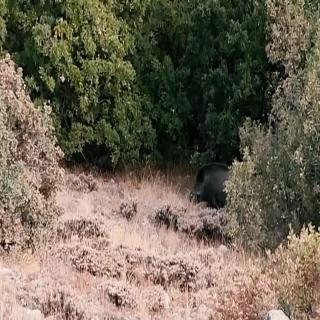Pig: (191, 148, 242, 205)
